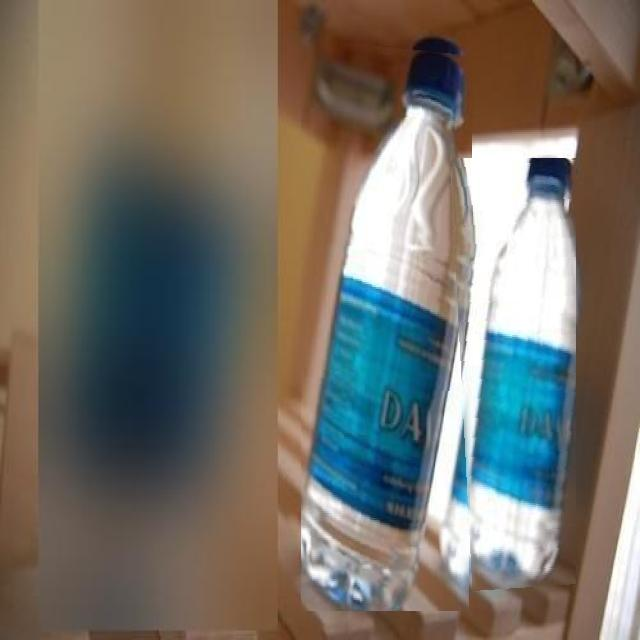plastic bottle: (301, 51, 472, 611), (470, 158, 576, 589)
